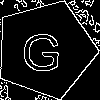G: (20, 24, 63, 72)
